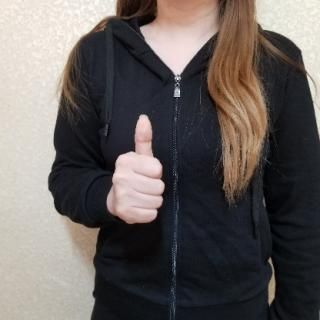ALIF: (104, 112, 168, 233)
